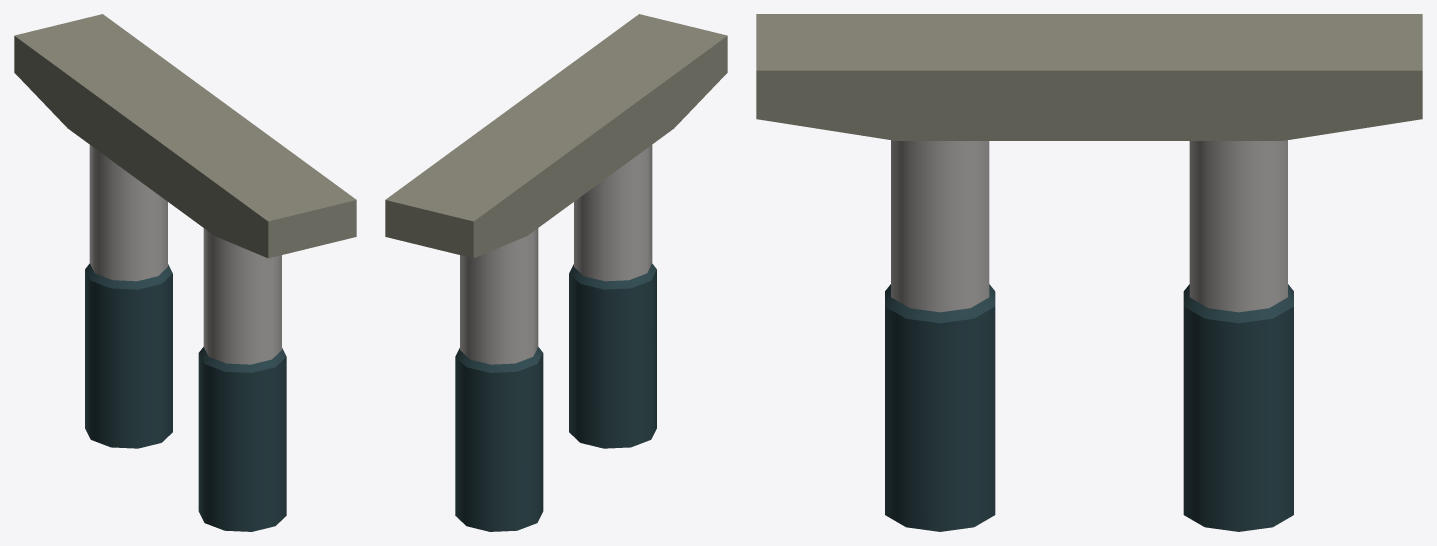
Rendered from bridge1_pillars.fbx.
3 renders of one model, left to right at view 1: azimuth 30°, elevation 25°; view 2: azimuth 150°, elevation 25°; view 3: azimuth 270°, elevation 25°, orthographic. The views are drawn at different scales.
Visible parts, largest first — view 1: bridge1_pillars; view 2: bridge1_pillars; view 3: bridge1_pillars.
Part boxes in pixels (x1,y1,x2,y2): bridge1_pillars: (14, 14, 356, 531); bridge1_pillars: (385, 14, 727, 531); bridge1_pillars: (756, 14, 1422, 531).
Bounding box in the file's own units: 312 × 1192 × 1548.
